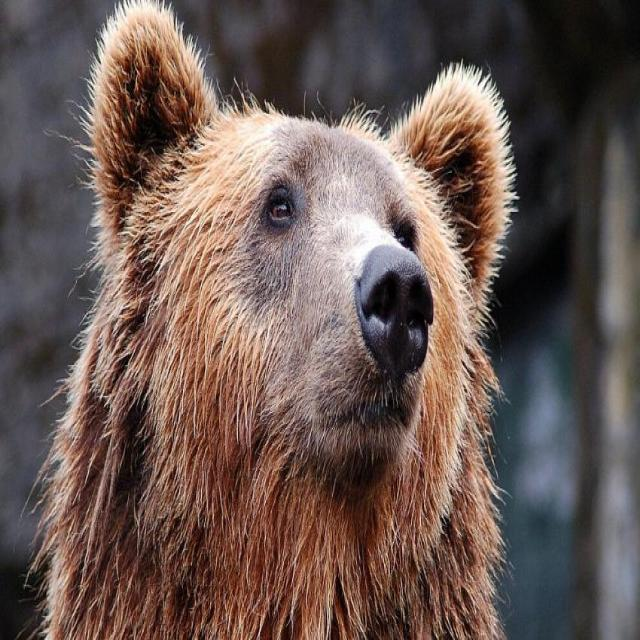Bear: (18, 0, 518, 640)
